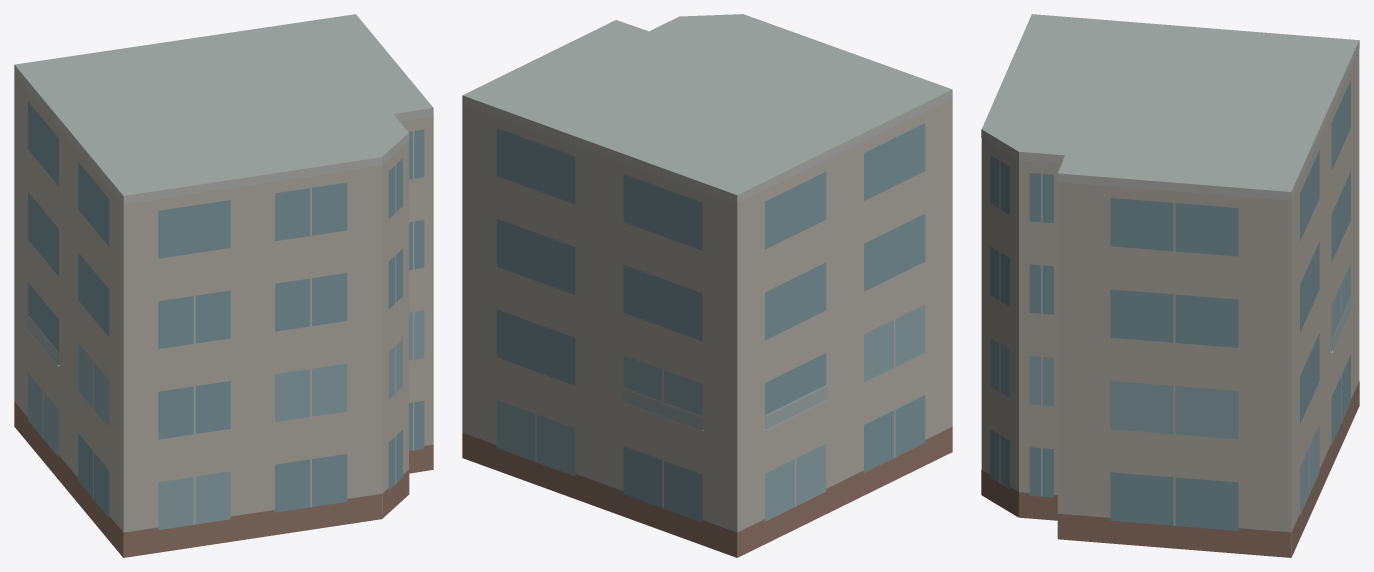
The model's file is survey-upis-32702614.glb.
3 renders of one model, left to right at view 1: azimuth 30°, elevation 25°; view 2: azimuth 150°, elevation 25°; view 3: azimuth 270°, elevation 25°, orthographic.
Visible parts, largest first — view 1: survey-upis-32702614.tmp; view 2: survey-upis-32702614.tmp; view 3: survey-upis-32702614.tmp.
Part boxes in pixels (bbox=[...]): survey-upis-32702614.tmp: bbox=[14, 14, 433, 557]; survey-upis-32702614.tmp: bbox=[462, 14, 952, 557]; survey-upis-32702614.tmp: bbox=[981, 14, 1359, 557].
Bounding box in the file's own units: 10.86 × 10.4 × 9.74.
